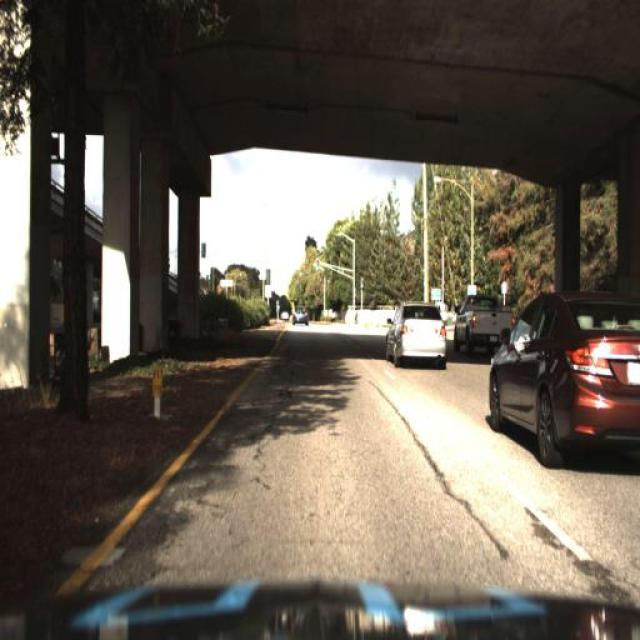car: (489, 279, 638, 489), (384, 291, 454, 368), (452, 289, 513, 355), (289, 302, 310, 328)
